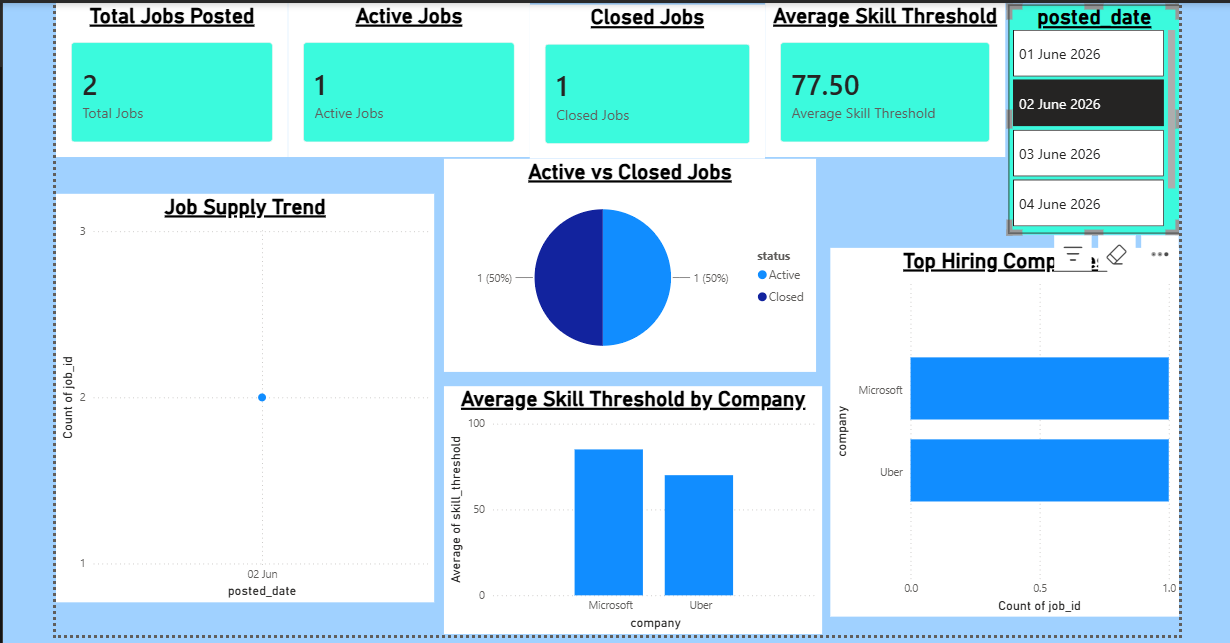

The page's visual inventory and layout, read from the dashboard file:
{"tool":"powerbi","page":{"name":"Page 1","canvas":[1280,720],"ordinal":0},"visuals":[{"type":"cardVisual","title":"Total Jobs Posted","fields":{"Data":["jobs.Total Jobs"]},"box":[0,0,264.5,175.7],"z":0},{"type":"cardVisual","title":"Active Jobs","fields":{"Data":["jobs.Active Jobs"]},"box":[264.5,0,275.3,175.7],"z":1000},{"type":"cardVisual","title":"Closed Jobs","fields":{"Data":["jobs.Closed Jobs"]},"box":[539.8,1.8,268.1,175.7],"z":2000},{"type":"cardVisual","title":"Average Skill Threshold","fields":{"Data":["jobs.Average Skill Threshold"]},"box":[807.9,0,273.5,175.7],"z":3000},{"type":"lineChart","title":"Job Supply Trend","fields":{"Y":["CountNonNull(jobs.job_id)"],"Category":["jobs.posted_date"]},"box":[0,217.4,431.1,465.5],"z":4000},{"type":"clusteredBarChart","title":"Top Hiring Companies","fields":{"Category":["jobs.company"],"Y":["CountNonNull(jobs.job_id)"]},"box":[882.1,279,398.5,420.2],"z":5000},{"type":"pieChart","title":"Active vs Closed Jobs","fields":{"Category":["jobs.status"],"Y":["CountNonNull(jobs.job_id)"]},"box":[442,177.5,423.9,242.7],"z":6000},{"type":"clusteredColumnChart","title":"Average Skill Threshold by Company","fields":{"Y":["Avg(jobs.skill_threshold)"],"Category":["jobs.company"]},"box":[442,436.5,431.1,282.6],"z":7000},{"type":"advancedSlicerVisual","fields":{"Values":["jobs.posted_date"]},"box":[1085,1.8,195.6,260.8],"z":8000}]}

Visuals, with their boxes in screenshot pixels (x1, y1, x2, y2):
"Total Jobs Posted" cardVisual: [left=48, top=0, right=281, bottom=155]
"Active Jobs" cardVisual: [left=281, top=0, right=524, bottom=155]
"Closed Jobs" cardVisual: [left=524, top=2, right=760, bottom=157]
"Average Skill Threshold" cardVisual: [left=760, top=0, right=1002, bottom=155]
"Job Supply Trend" lineChart: [left=48, top=192, right=428, bottom=602]
"Top Hiring Companies" clusteredBarChart: [left=826, top=246, right=1177, bottom=617]
"Active vs Closed Jobs" pieChart: [left=438, top=157, right=812, bottom=371]
"Average Skill Threshold by Company" clusteredColumnChart: [left=438, top=385, right=818, bottom=634]
advancedSlicerVisual - jobs.posted_date: [left=1005, top=2, right=1177, bottom=232]
